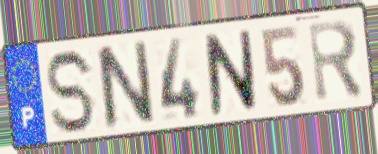4: (157, 35, 205, 123)
5: (257, 22, 308, 110)
N: (92, 37, 158, 134), (202, 28, 260, 119)
R: (305, 16, 367, 106)
S: (45, 47, 99, 137)
